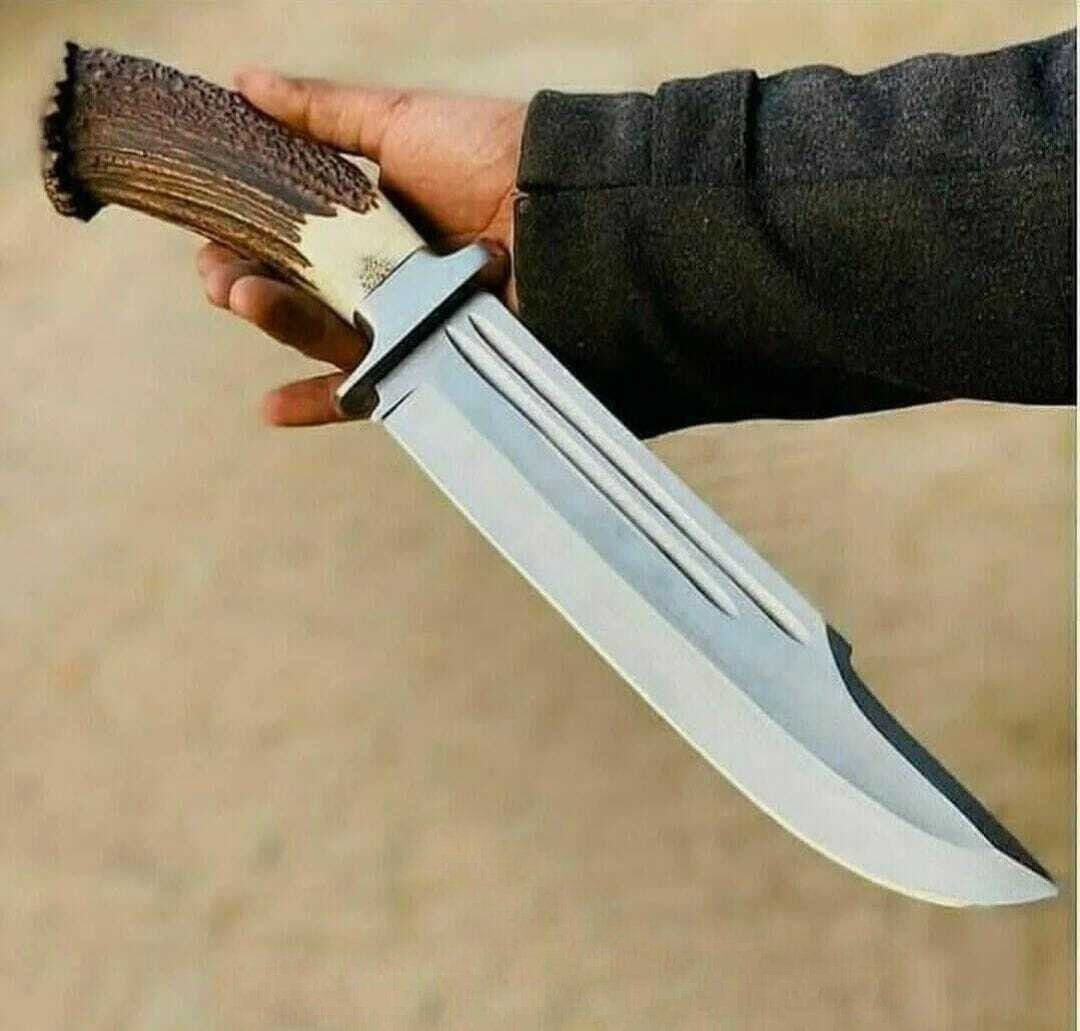knife: (29, 33, 1067, 924)
